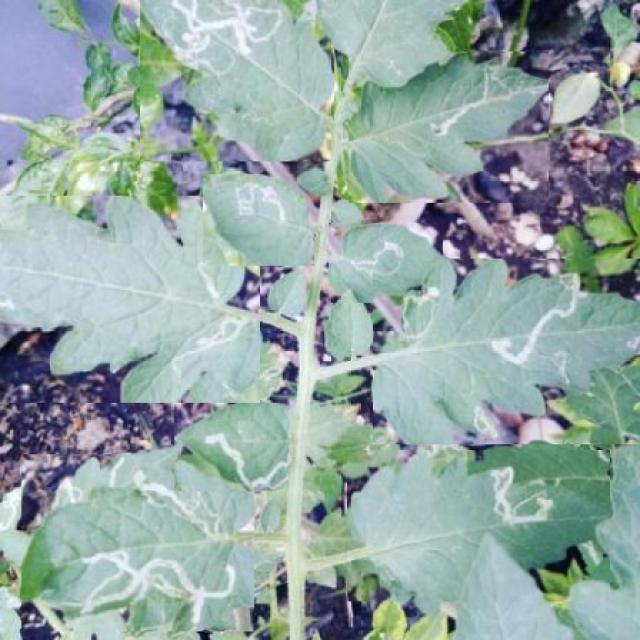Leaf Miner: (1, 196, 260, 403), (373, 259, 640, 445), (22, 455, 255, 632), (347, 451, 610, 602), (140, 0, 335, 161), (350, 51, 550, 203), (202, 175, 314, 266), (174, 403, 289, 491), (328, 223, 443, 303)
